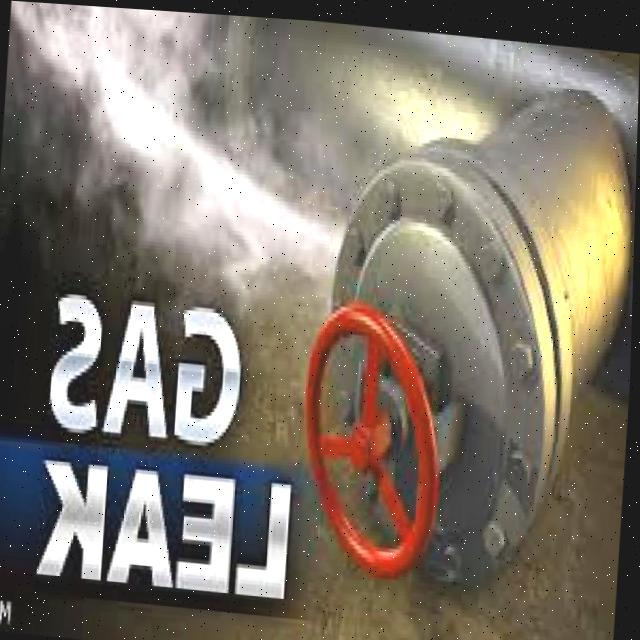corrosion: (113, 137, 452, 385)
